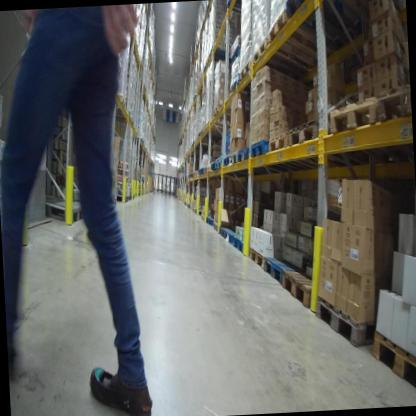pallet: (328, 98, 407, 172), (268, 5, 339, 72), (310, 286, 375, 350), (249, 32, 319, 82), (374, 79, 413, 165), (286, 121, 348, 174), (371, 328, 416, 398), (267, 130, 331, 178), (280, 263, 317, 310), (246, 135, 286, 174), (44, 196, 86, 226), (263, 254, 296, 285), (235, 145, 263, 179), (248, 245, 269, 275), (225, 76, 256, 96), (239, 56, 257, 86), (228, 45, 248, 68), (228, 146, 240, 177), (225, 0, 245, 18), (205, 117, 229, 132), (230, 233, 246, 254), (211, 43, 230, 60), (222, 150, 234, 173), (113, 84, 125, 107), (211, 104, 232, 117), (222, 227, 235, 244), (214, 158, 225, 168), (218, 224, 226, 237), (210, 159, 216, 173), (206, 162, 212, 175), (213, 220, 219, 232)
